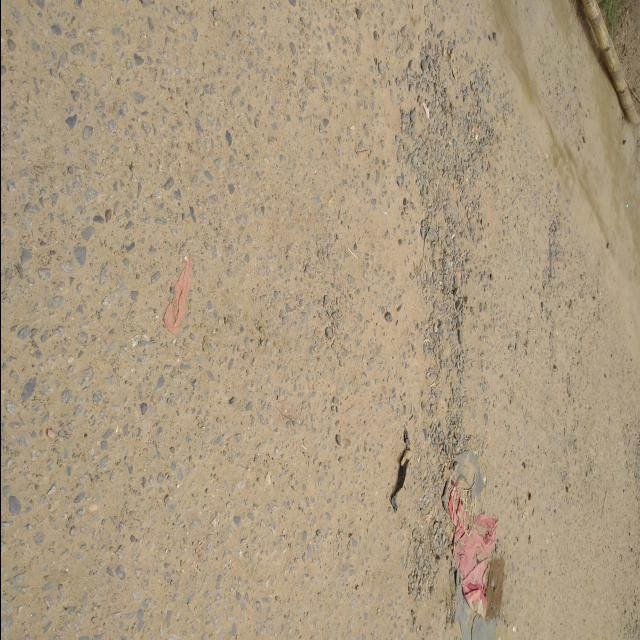cracks: (386, 88, 476, 640)
